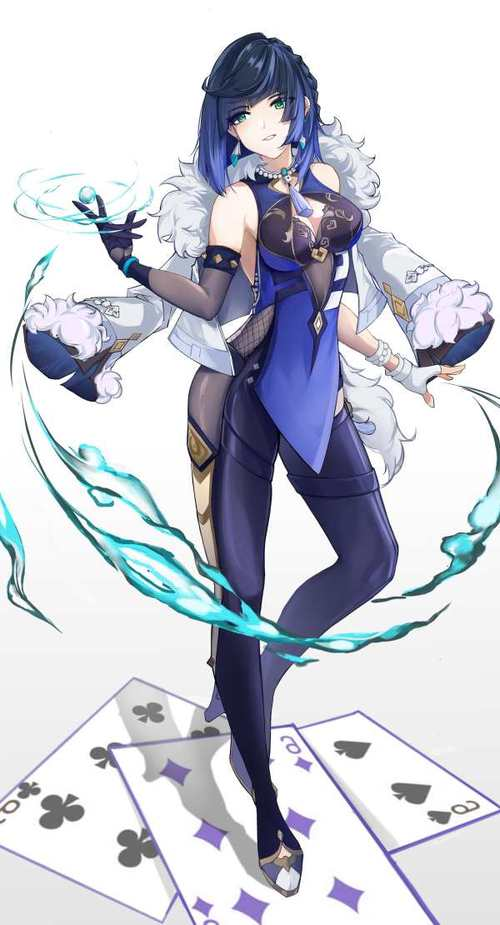夜兰: (71, 37, 466, 906)
